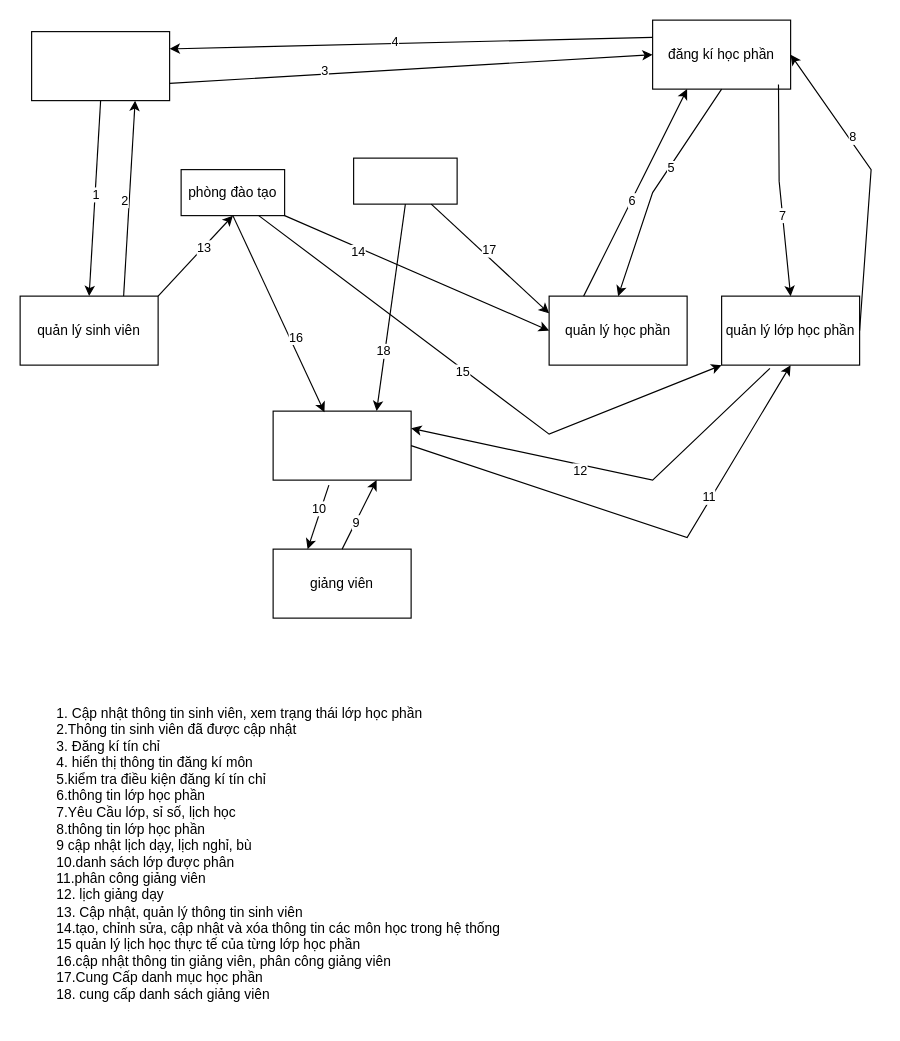
Image size: 900x1041. Some labels were removed from this diagram. The centre of each missing label's shape, as x and y in pixels:
khoa bộ, môn: the point at 404,180
quản lý giảng viên: the point at 341,445
sinh viên: the point at 100,65
